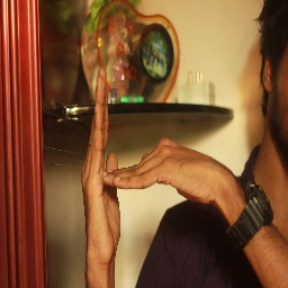Z: (77, 66, 213, 262)
